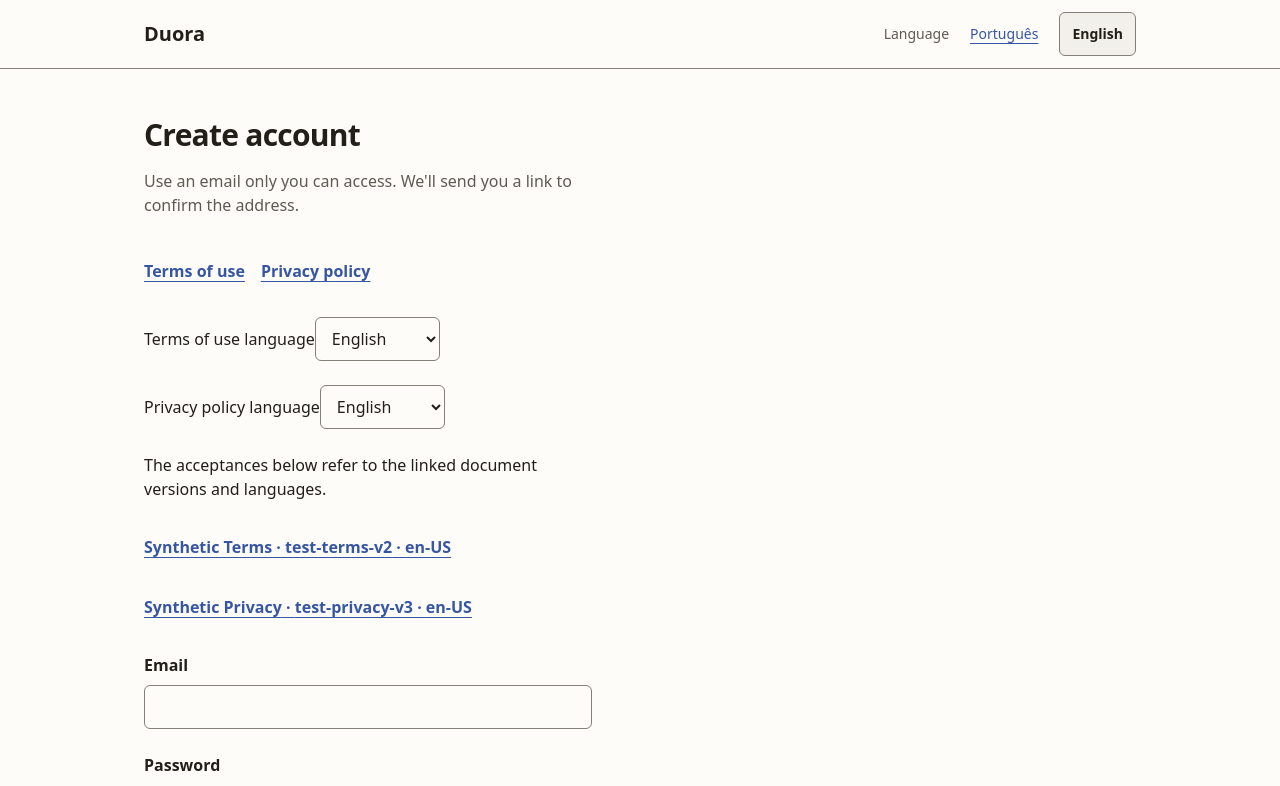
Scenario: tela de cadastro › binds the English documents explicitly offered in the English interface
Step 1. Type "reader@example.com" into the field labelled "Email" → (368, 707), box top-left (144, 685), bottom-right (592, 729)
(page scrolled)
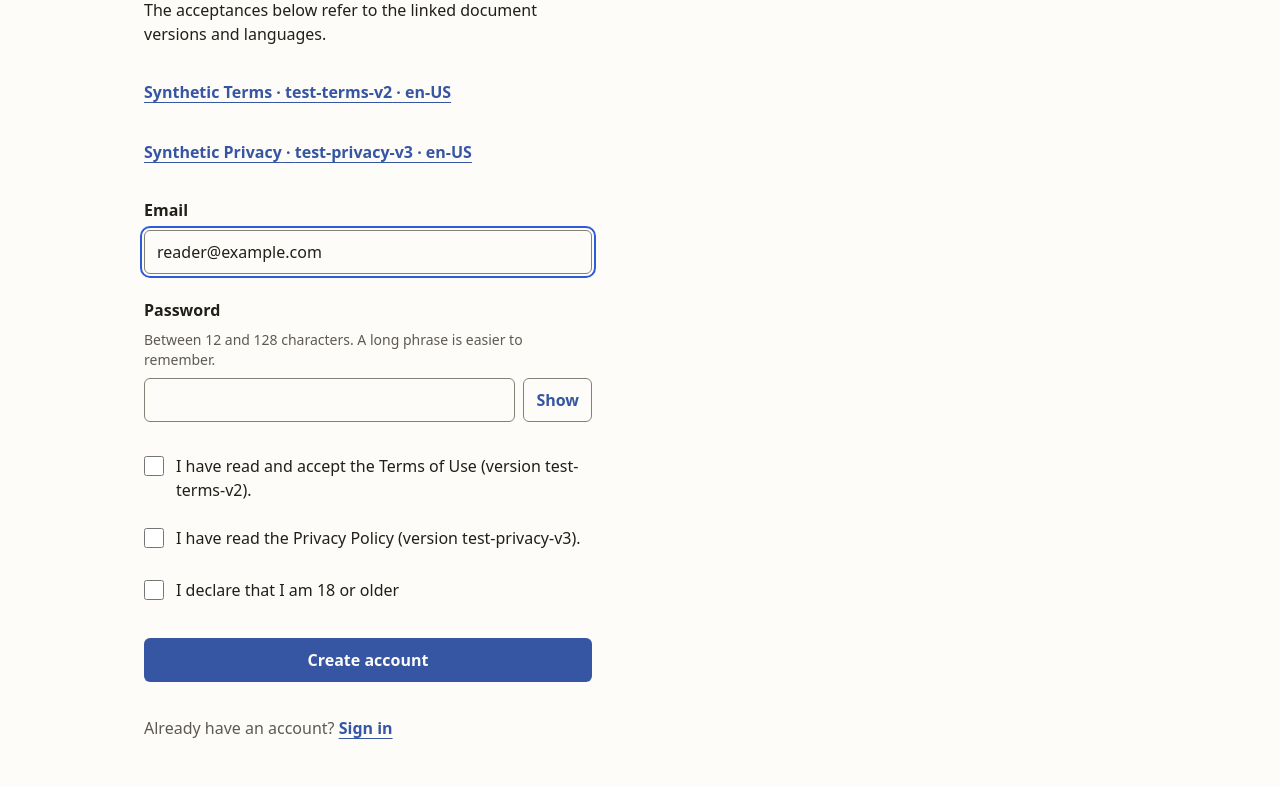
Step 2. Type "long enough password" into the password field labelled "Password" → (330, 400), box top-left (144, 378), bottom-right (515, 422)
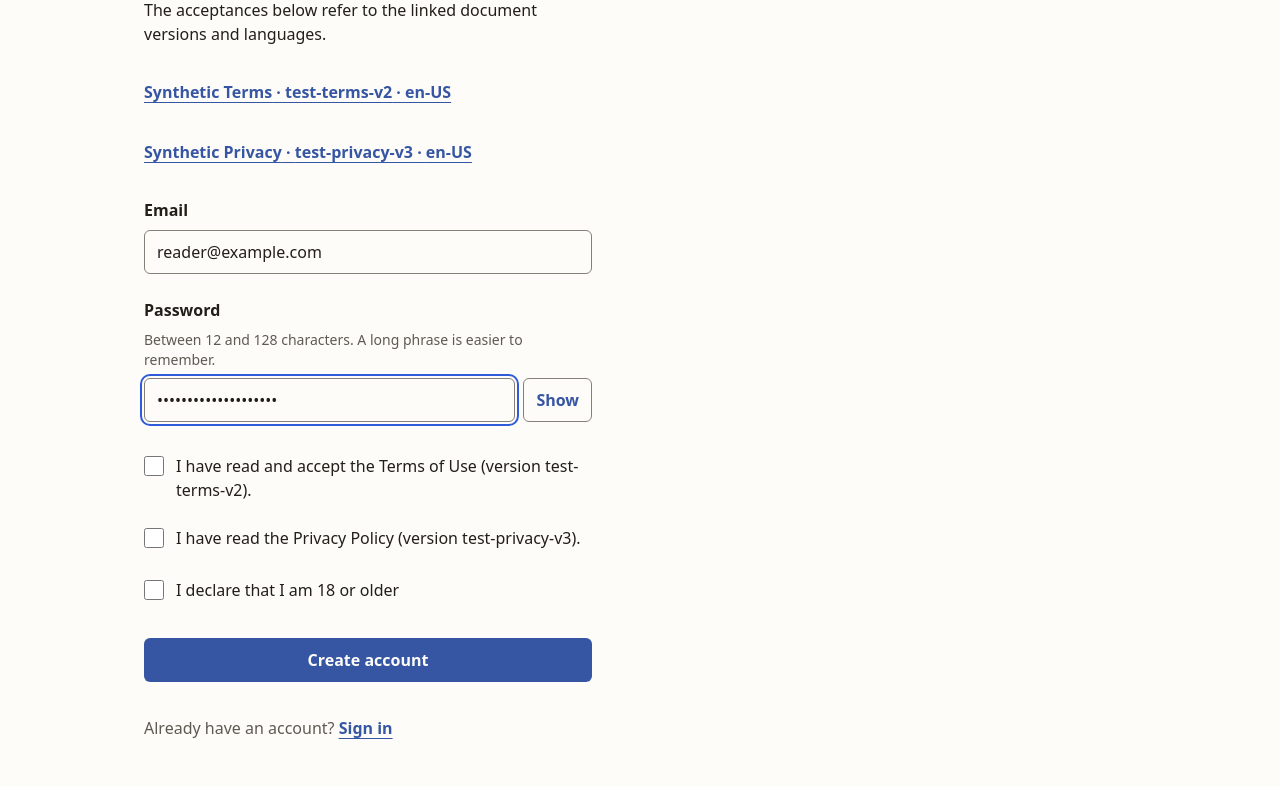
Step 3. Click the 1st checkbox → (154, 466), box top-left (144, 456), bottom-right (164, 476)
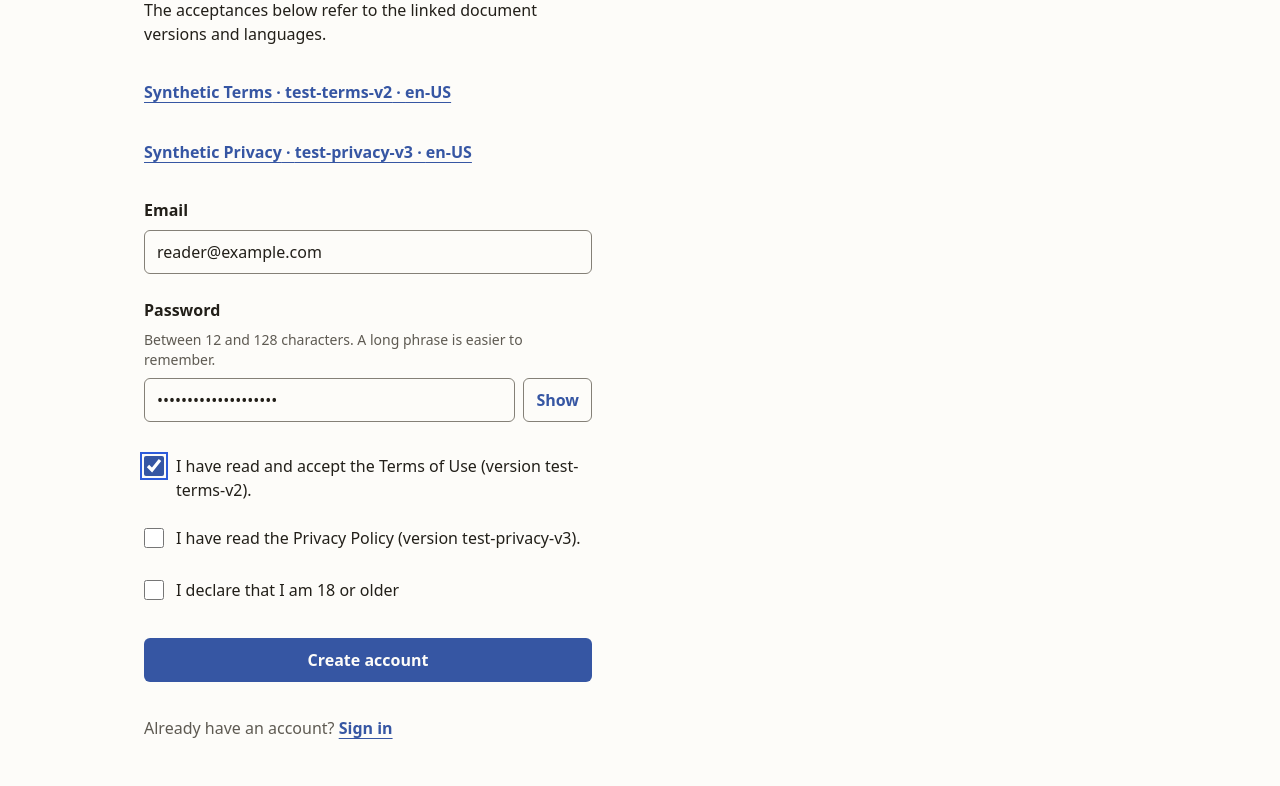
Step 4. Click the checkbox labelled "I have read the Privacy Policy (version test-privacy-v3)." → (154, 538), box top-left (144, 528), bottom-right (164, 548)
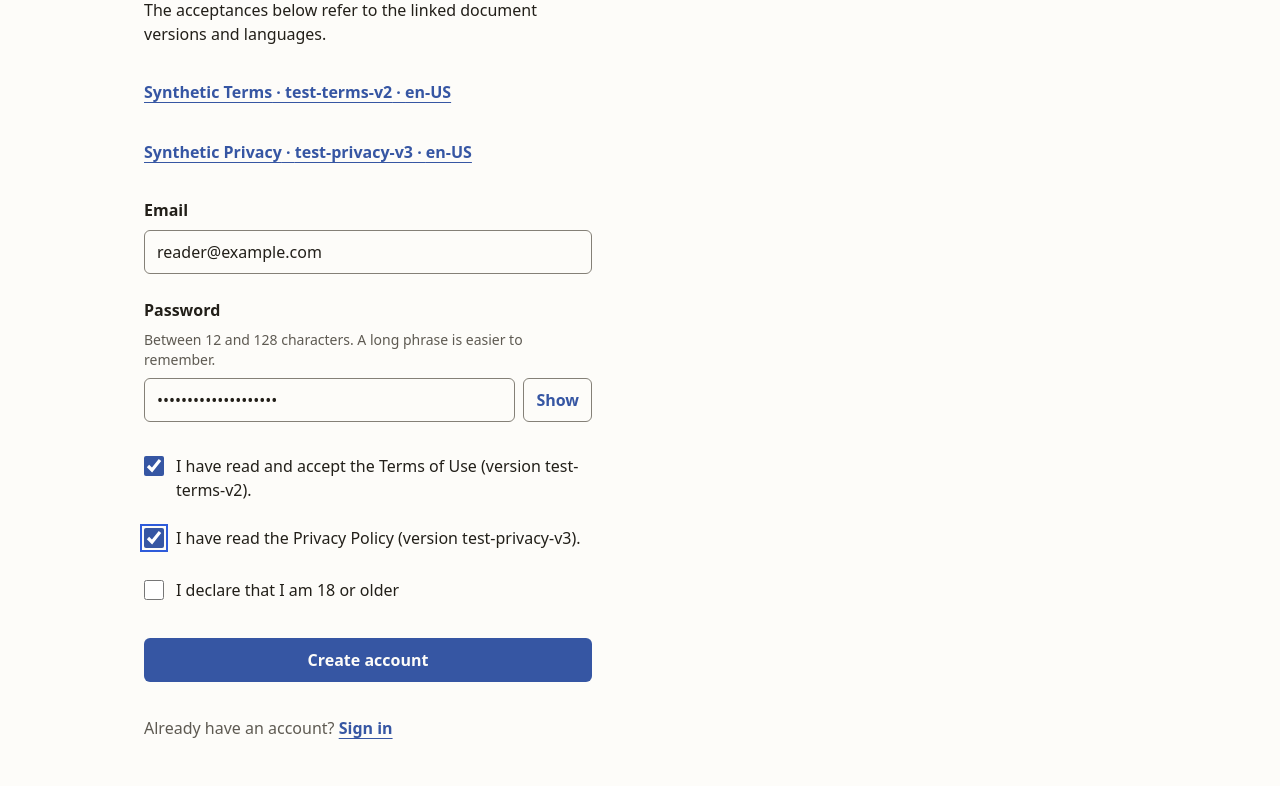
Step 5. Click the checkbox labelled "I declare that I am 18 or older" → (154, 590), box top-left (144, 580), bottom-right (164, 600)
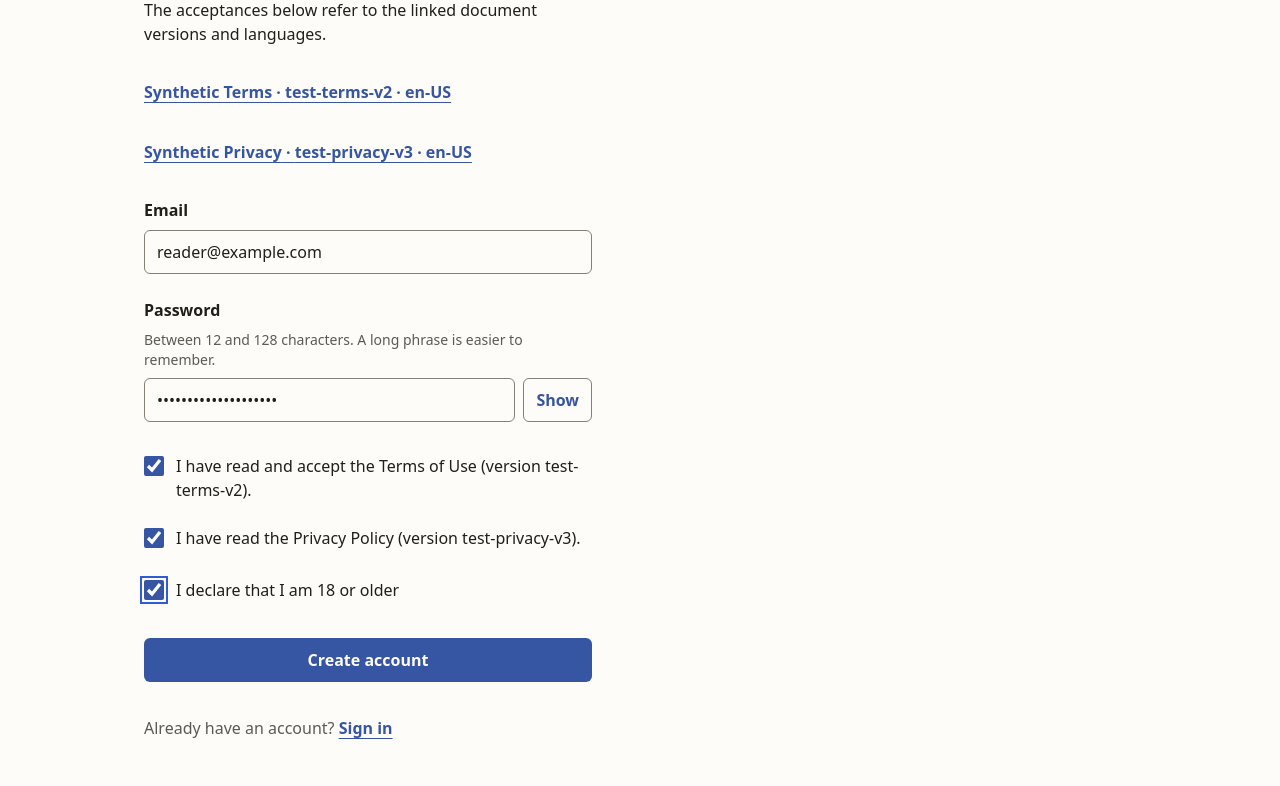
Step 6. Click the button "Create account" → (368, 660), box top-left (144, 638), bottom-right (592, 682)
(page scrolled)
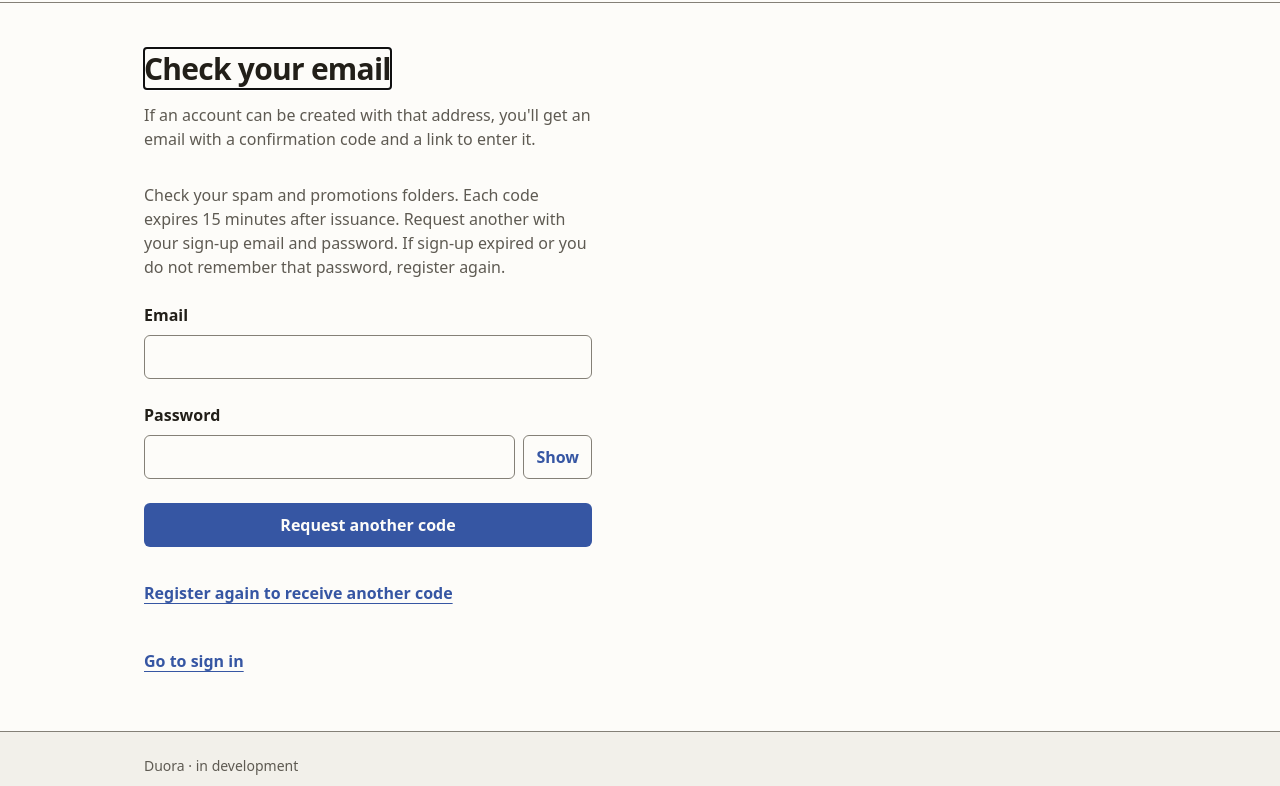
expect the heading "Check your email" is shown: met, box top-left (144, 51), bottom-right (391, 87)
